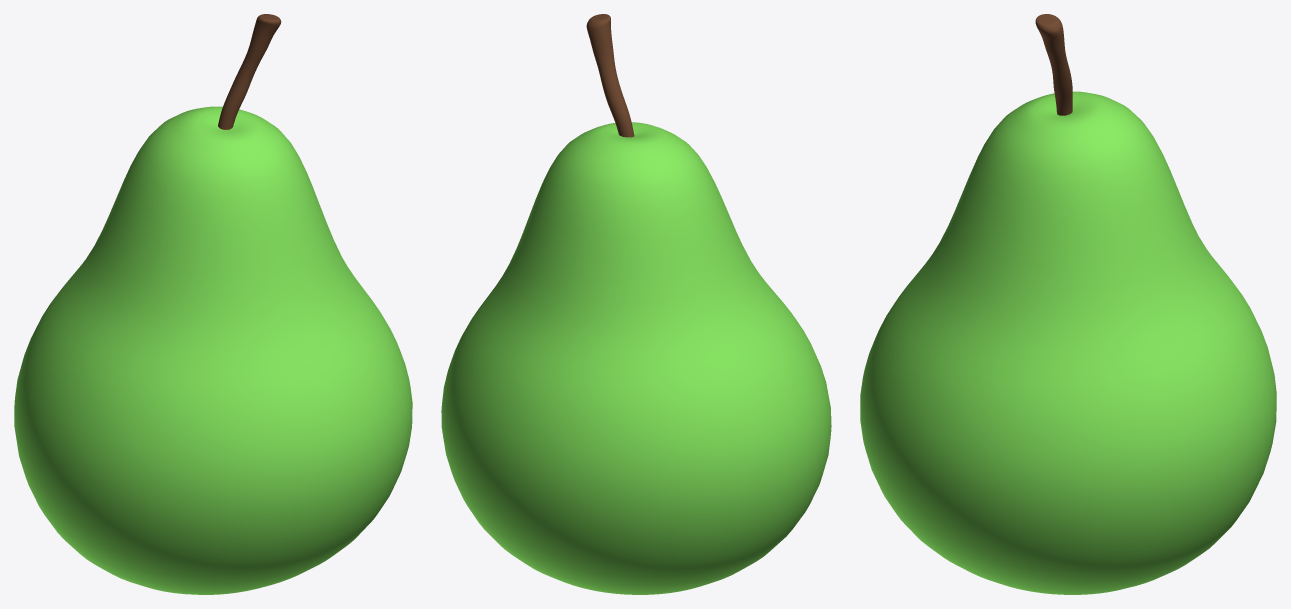
The model's file is paaryna.fbx.
The picture shows the model from 3 angles, left to right: view 1: azimuth 30°, elevation 25°; view 2: azimuth 150°, elevation 25°; view 3: azimuth 270°, elevation 25°; orthographic projection. The views are drawn at different scales.
Parts seen in each view (by area): view 1: PEARSTALK; view 2: PEARSTALK; view 3: PEARSTALK.
Boxes of the visible parts, bbox=[...] form: PEARSTALK: bbox=[14, 14, 412, 594]; PEARSTALK: bbox=[441, 14, 831, 594]; PEARSTALK: bbox=[860, 14, 1276, 594].
Size of the model in its own units: 18.82 by 28.4 by 18.69.
